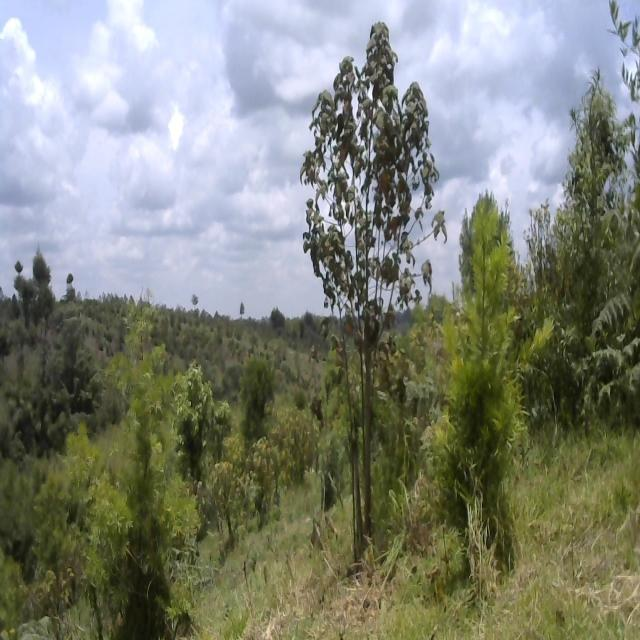Podocarpus falcatus: (425, 181, 528, 592), (85, 361, 196, 640)
other: (300, 16, 435, 576)
